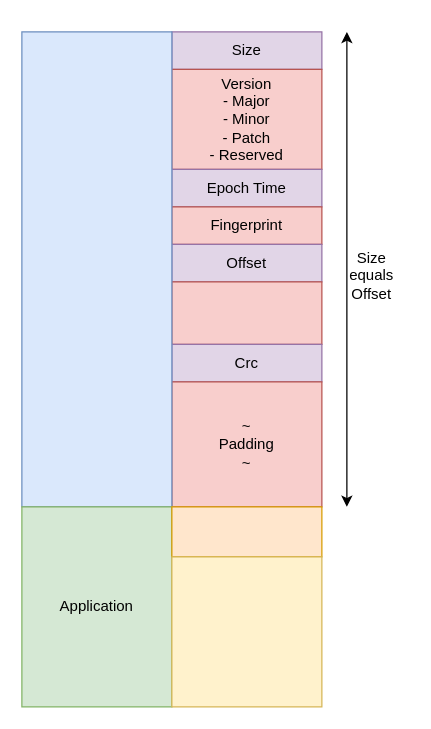
The diagram is 431 pixels wide and 729 high, and some of its shapes have lost their labels. The shapes that lost their labels are listed below. From the top down, each one's centre as x and y in pixels, then its label:
point 96,269: App Info
point 246,312: MD5 Hash
point 246,531: ISR vector
point 246,631: Application Code
